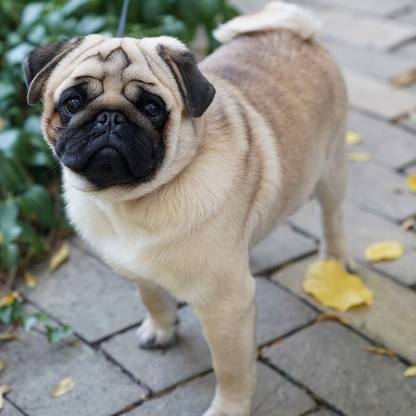Pug: (17, 1, 358, 407)
